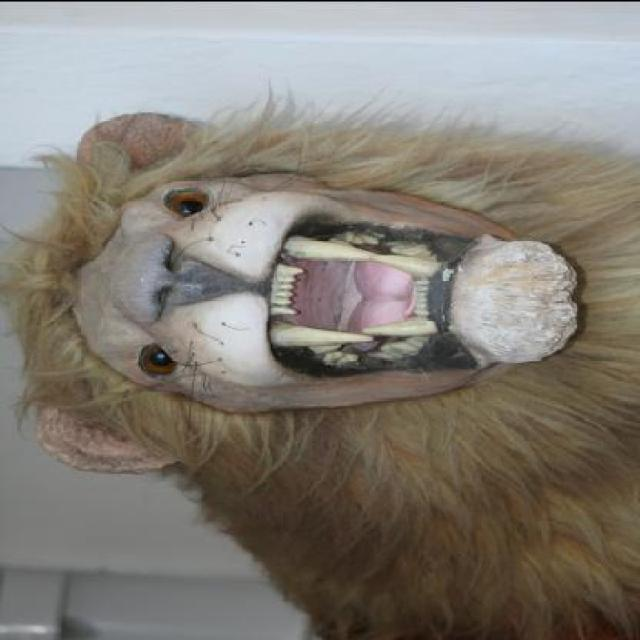Lion: (12, 86, 638, 639)
